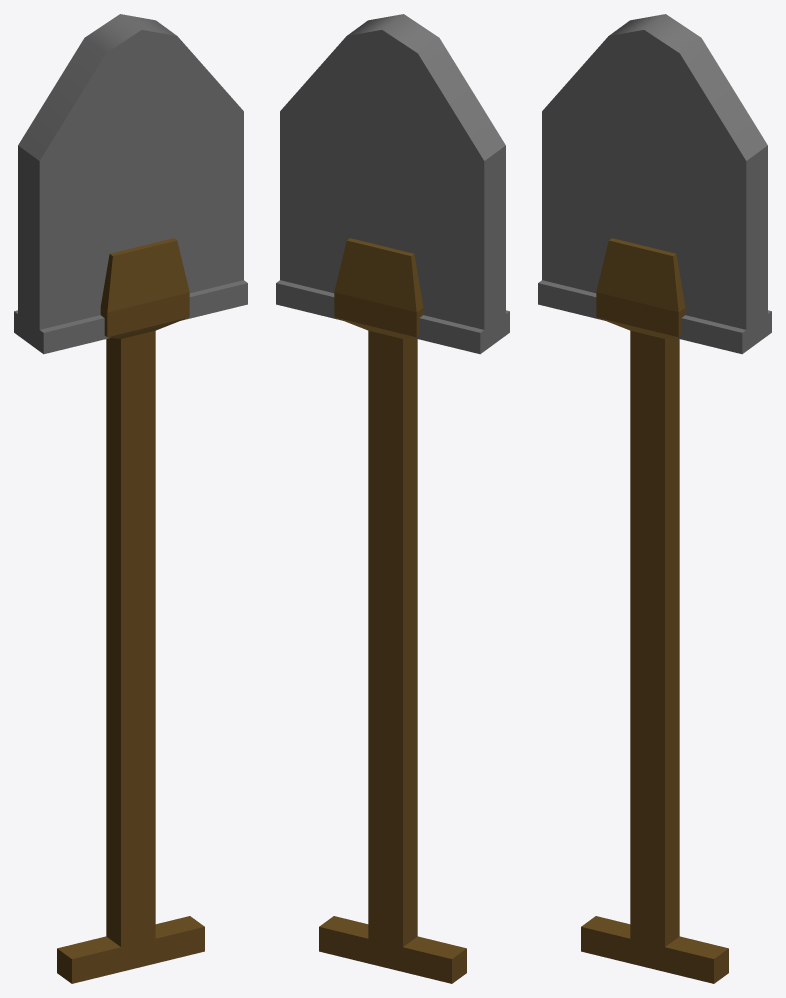
File: mesh_shovel.fbx
3 renders of one model, left to right at view 1: azimuth 30°, elevation 25°; view 2: azimuth 150°, elevation 25°; view 3: azimuth 330°, elevation 25°, orthographic.
Parts seen in each view (by area): view 1: shovel; view 2: shovel; view 3: shovel.
Part boxes in pixels (<box>): shovel: <box>14,14,247,983</box>; shovel: <box>276,14,509,983</box>; shovel: <box>538,14,771,983</box>.
Size of the model in its own units: 28.86 by 127 by 8.59.
Materials: 1 (1 with a texture image).
